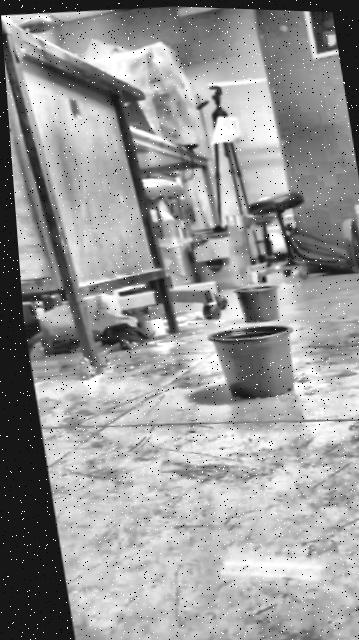pot: (205, 319, 301, 403), (233, 281, 282, 323)
